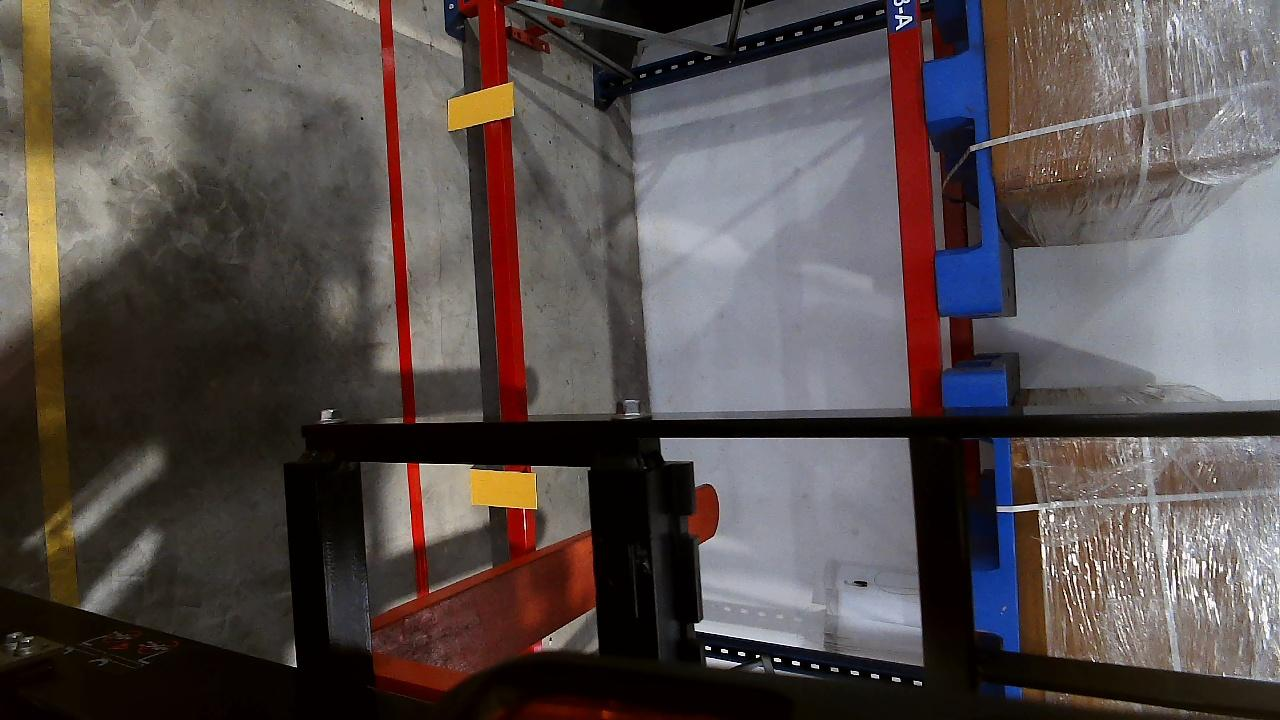h_rack: (882, 0, 944, 413), (472, 4, 524, 418)
orange_strip: (447, 83, 514, 129), (470, 469, 537, 509)
red_line: (378, 0, 416, 434)
small_pallet: (916, 1, 1007, 309)
yellow_line: (17, 0, 75, 605)
